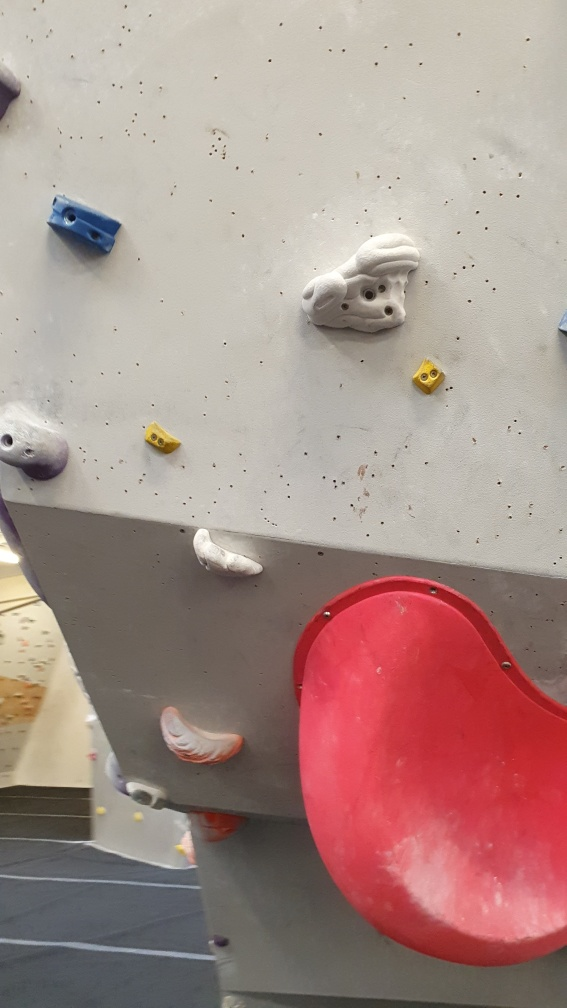Jug: (299, 229, 425, 339), (156, 699, 249, 768), (187, 521, 267, 588)
Pinch: (43, 190, 124, 254), (140, 414, 183, 460), (409, 356, 446, 400)
Sloper: (1, 408, 80, 482)
